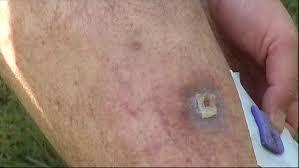Spider: (182, 83, 225, 134)
